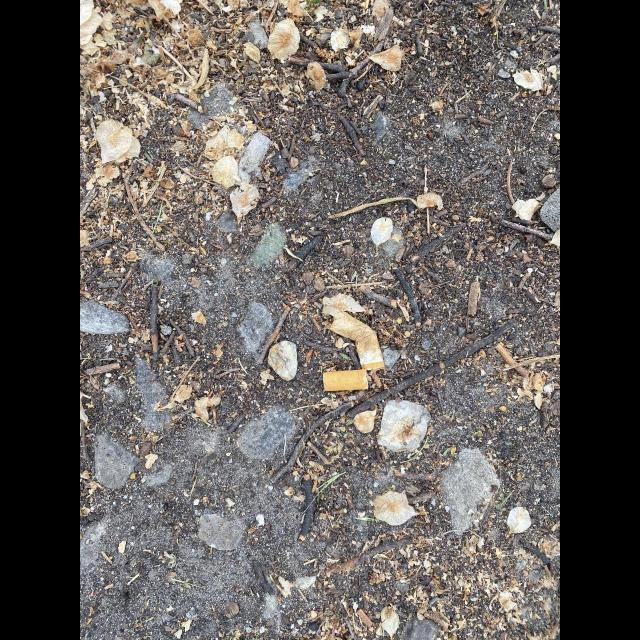cigarette: (322, 293, 386, 392)
